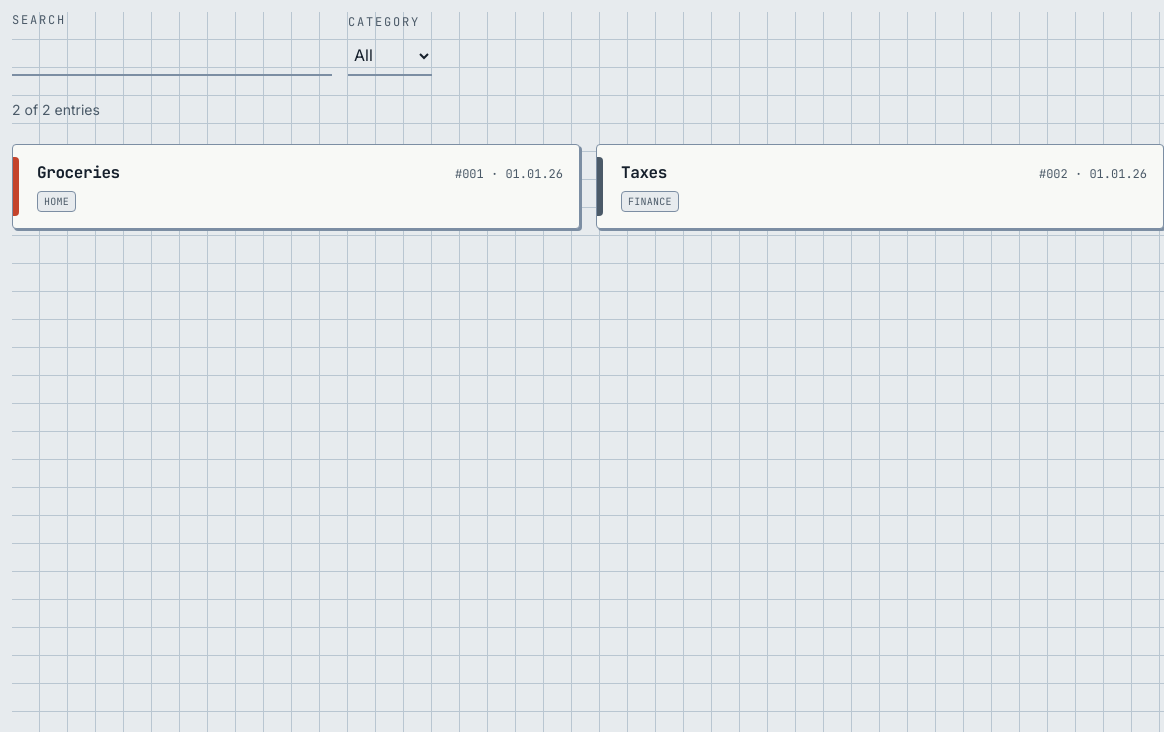
Scenario: NotesList › filters by category
Select "Finance" in the dropdown labelled "Category": (390, 56) [348,36,432,76]
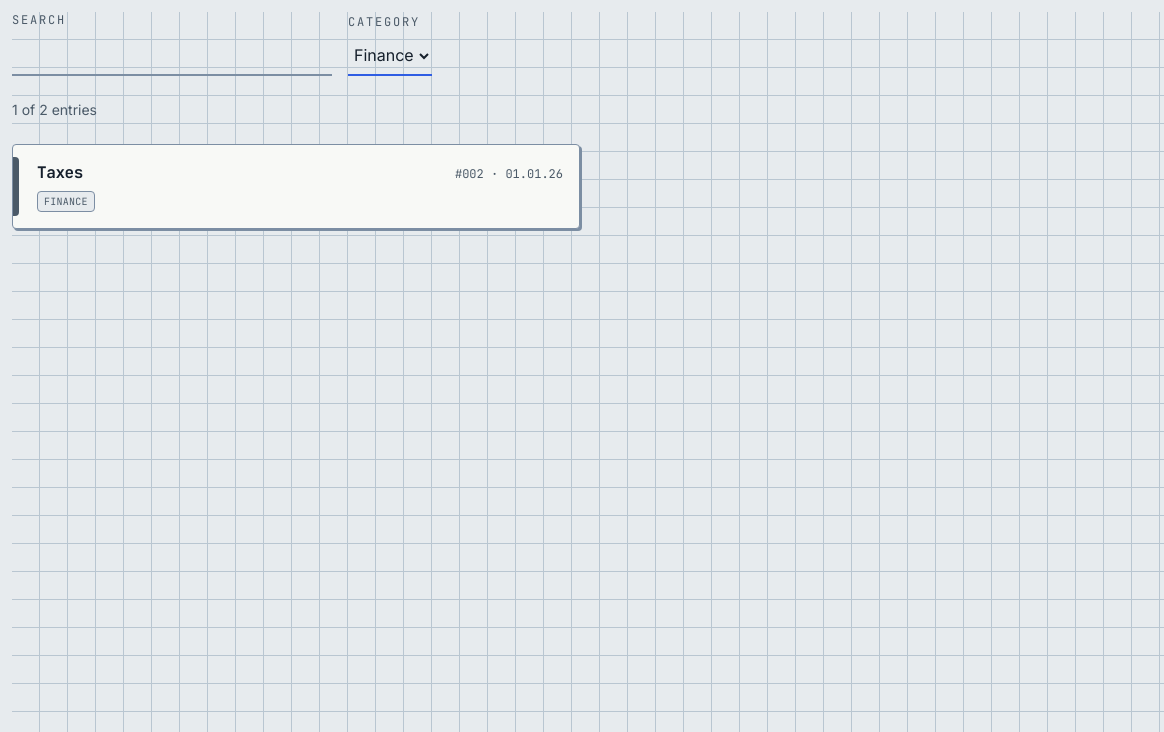
Expected: the heading "Taxes" is shown, [37,161,83,185]
Now the link "Groceries" is gone
